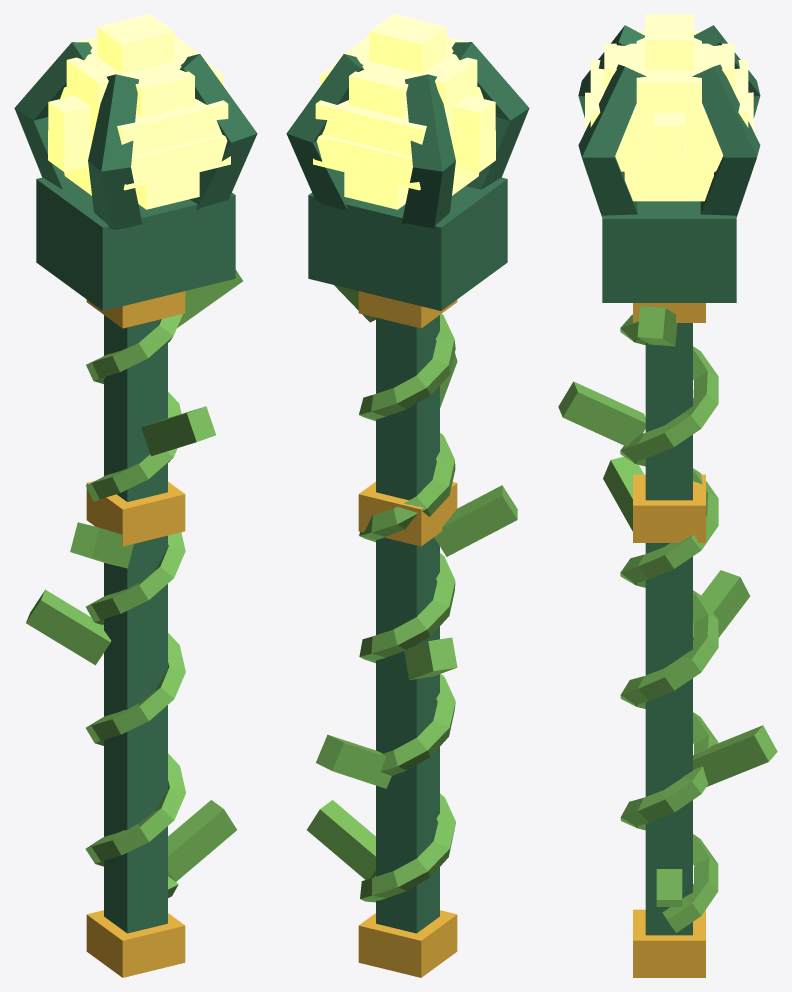
3 views of the same model, side by side, from view 1: azimuth 30°, elevation 25°; view 2: azimuth 150°, elevation 25°; view 3: azimuth 270°, elevation 25° (orthographic).
Visible parts, largest first — view 1: R024_Main, R024_Accent, R024_Glow, R024_Trim; view 2: R024_Main, R024_Accent, R024_Glow, R024_Trim; view 3: R024_Main, R024_Accent, R024_Glow, R024_Trim.
Boxes of the visible parts, x1=… form: R024_Main: x1=14, y1=42, x2=257, y2=933; R024_Accent: x1=26, y1=270, x2=242, y2=897; R024_Glow: x1=43, y1=14, x2=230, y2=209; R024_Trim: x1=86, y1=291, x2=185, y2=977; R024_Main: x1=286, y1=42, x2=529, y2=933; R024_Accent: x1=307, y1=285, x2=517, y2=902; R024_Glow: x1=313, y1=14, x2=500, y2=209; R024_Trim: x1=358, y1=291, x2=457, y2=977; R024_Main: x1=578, y1=25, x2=760, y2=935; R024_Accent: x1=558, y1=306, x2=777, y2=932; R024_Glow: x1=585, y1=14, x2=753, y2=201; R024_Trim: x1=633, y1=303, x2=705, y2=977.
Bounding box in the file's own units: 0.4134 × 2 × 0.4253.
